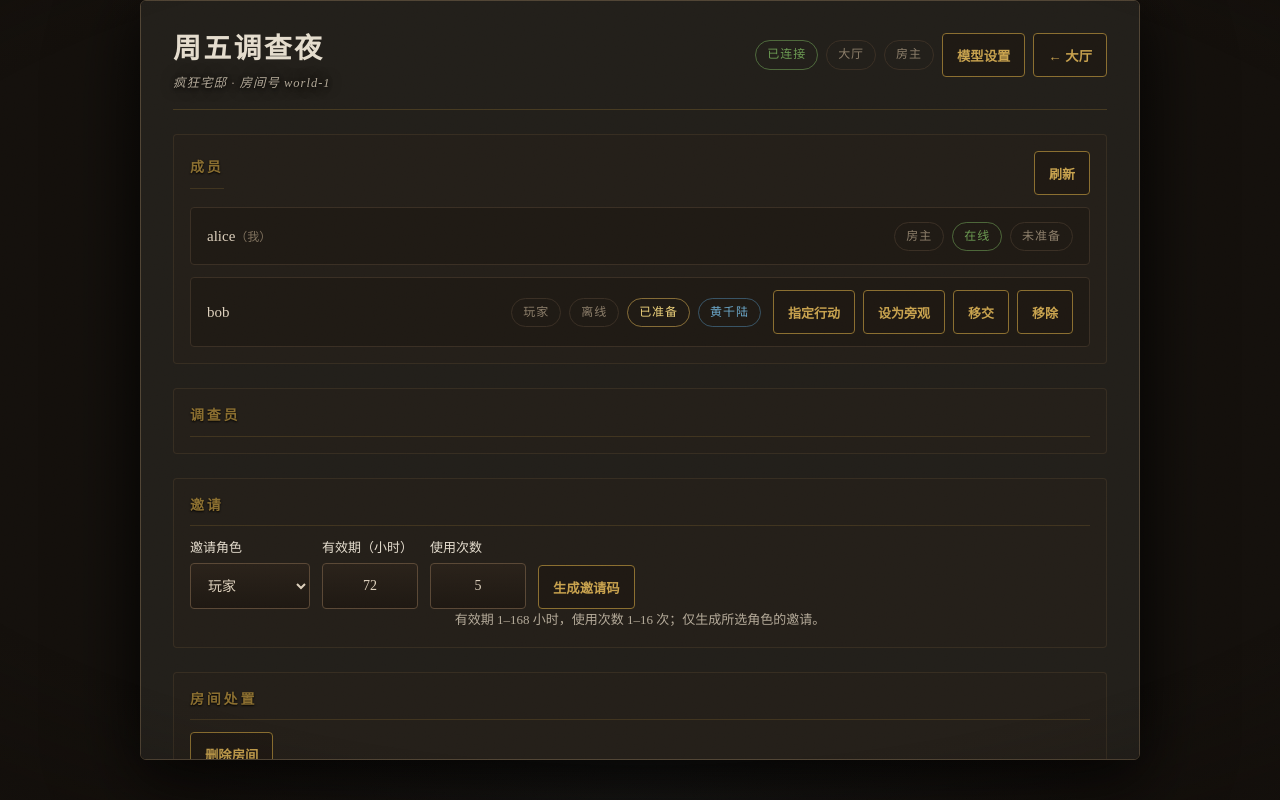
Test case: RoomScreen 邀请、退出与标题 › 保留无效有效期 0，不生成被改写的邀请
Replace the text in the field labelled "有效期（小时）" with "0" at (370, 586), box left=322, top=564, right=418, bottom=610
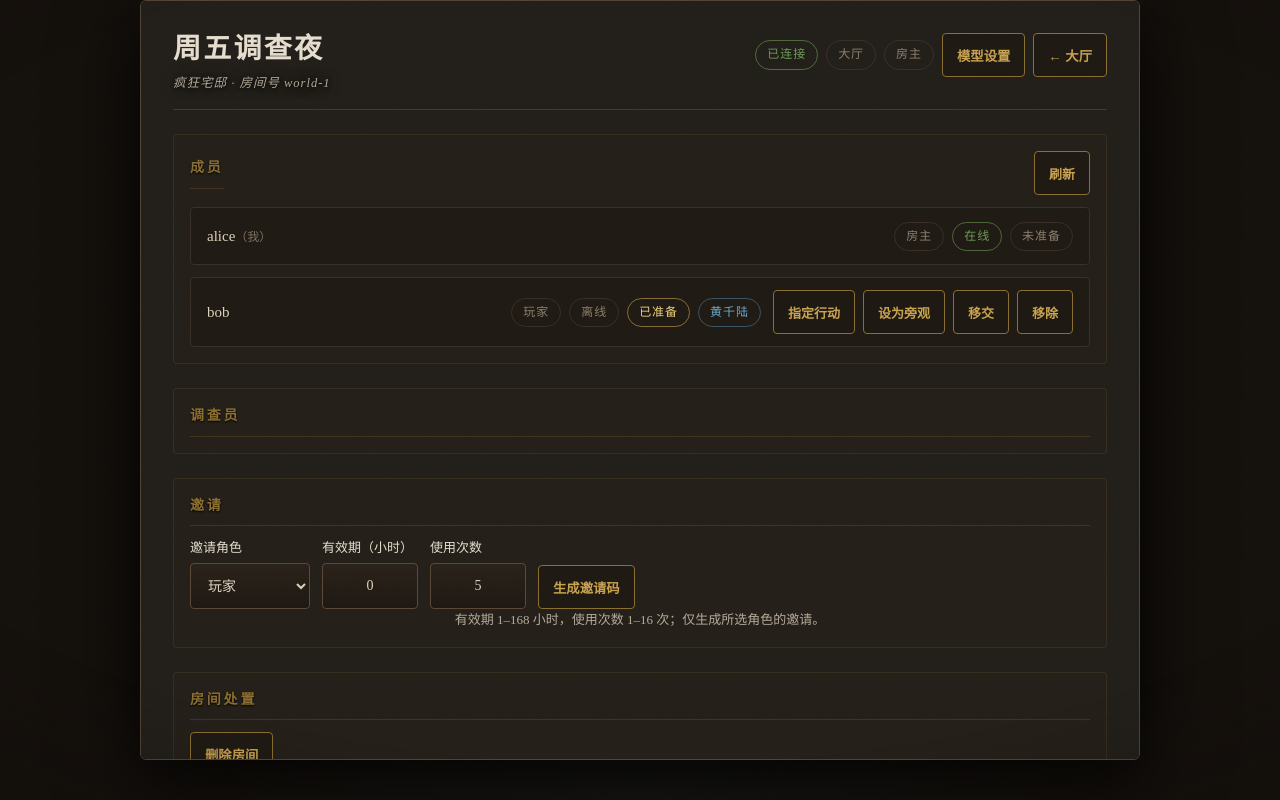
Click the button "生成邀请码" at (586, 588), box left=538, top=566, right=635, bottom=610
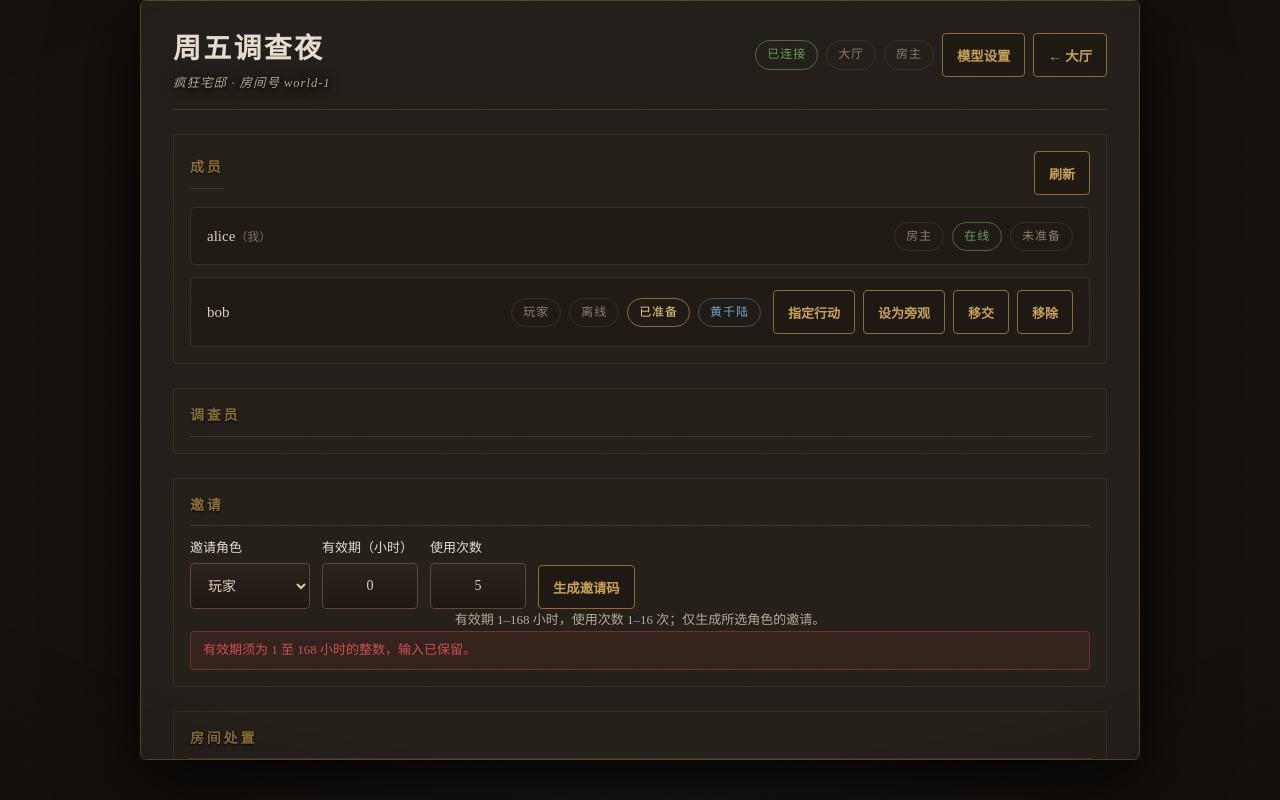
Result: the message "有效期须为 1 至 168 小时的整数，输入已保留。" is shown at left=190, top=631, right=1090, bottom=670
